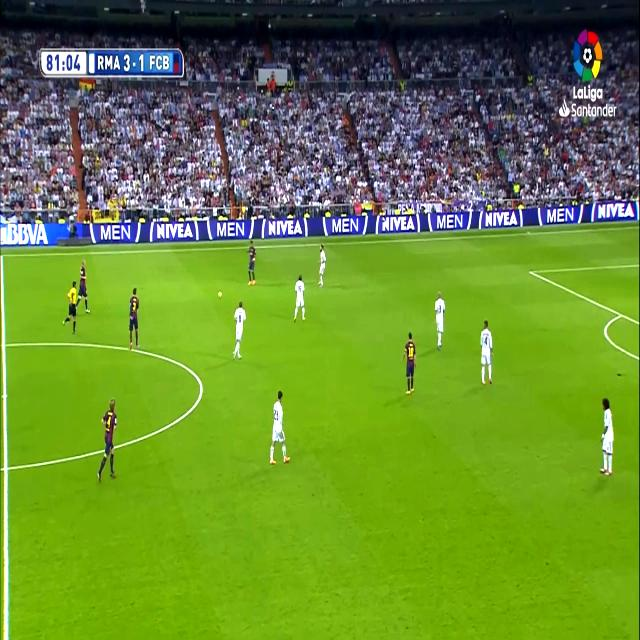bigarea_top_inner: (528, 266, 534, 277)
halfcircle_bottom: (0, 450, 12, 484)
halfcircle_top: (0, 330, 10, 357)
top_arc_area_intersection: (616, 306, 625, 322)
